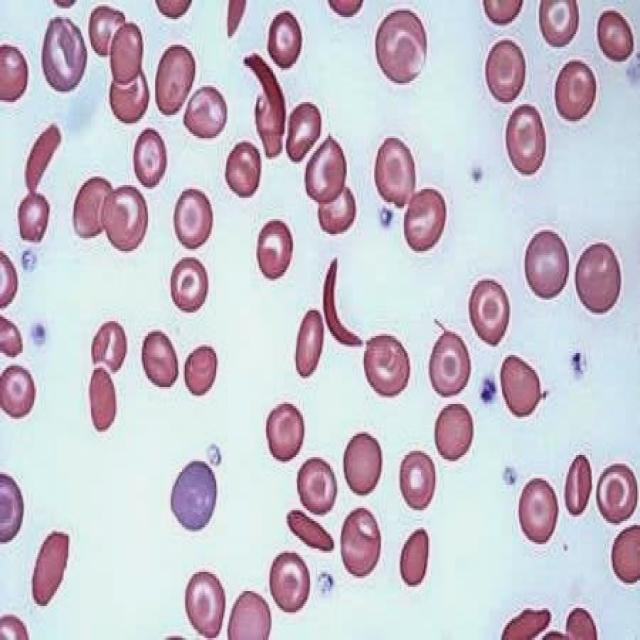sickle cell: (242, 46, 293, 146), (318, 251, 366, 351)
